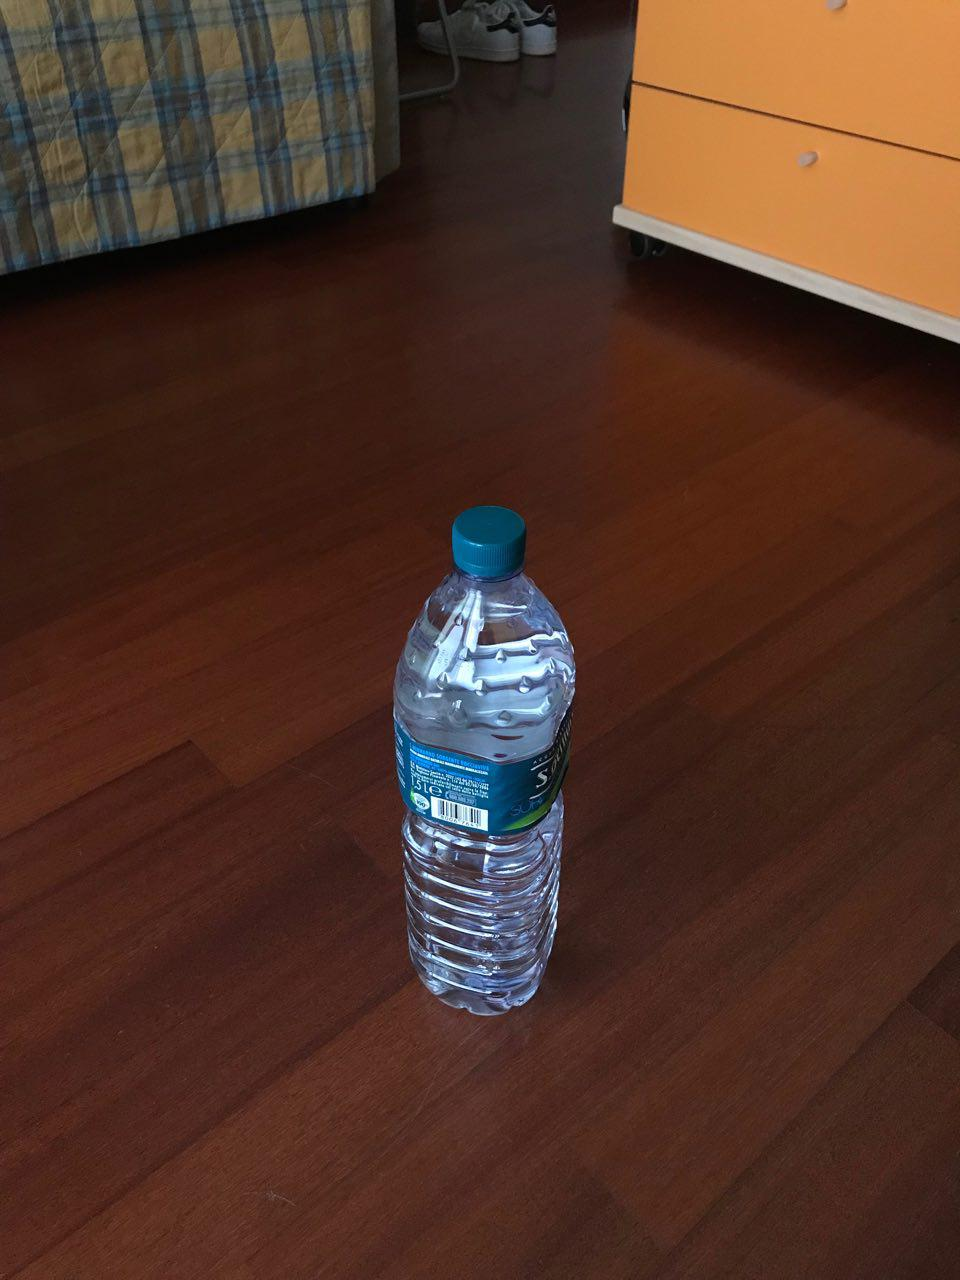san_bernardo: (390, 502, 578, 1019)
